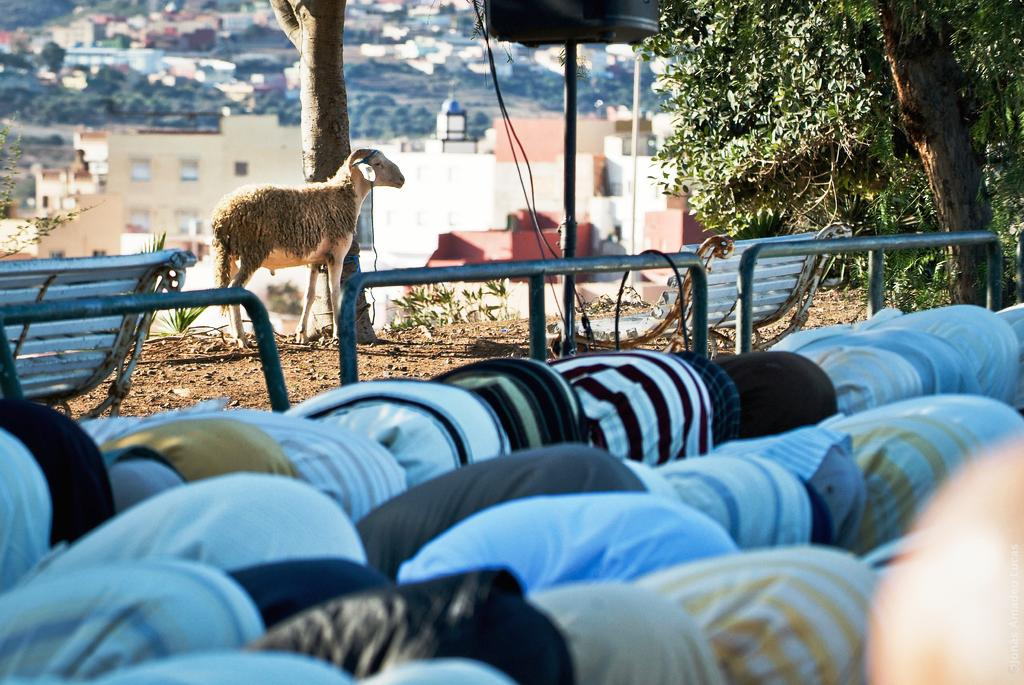Sheep: (207, 144, 411, 330)
